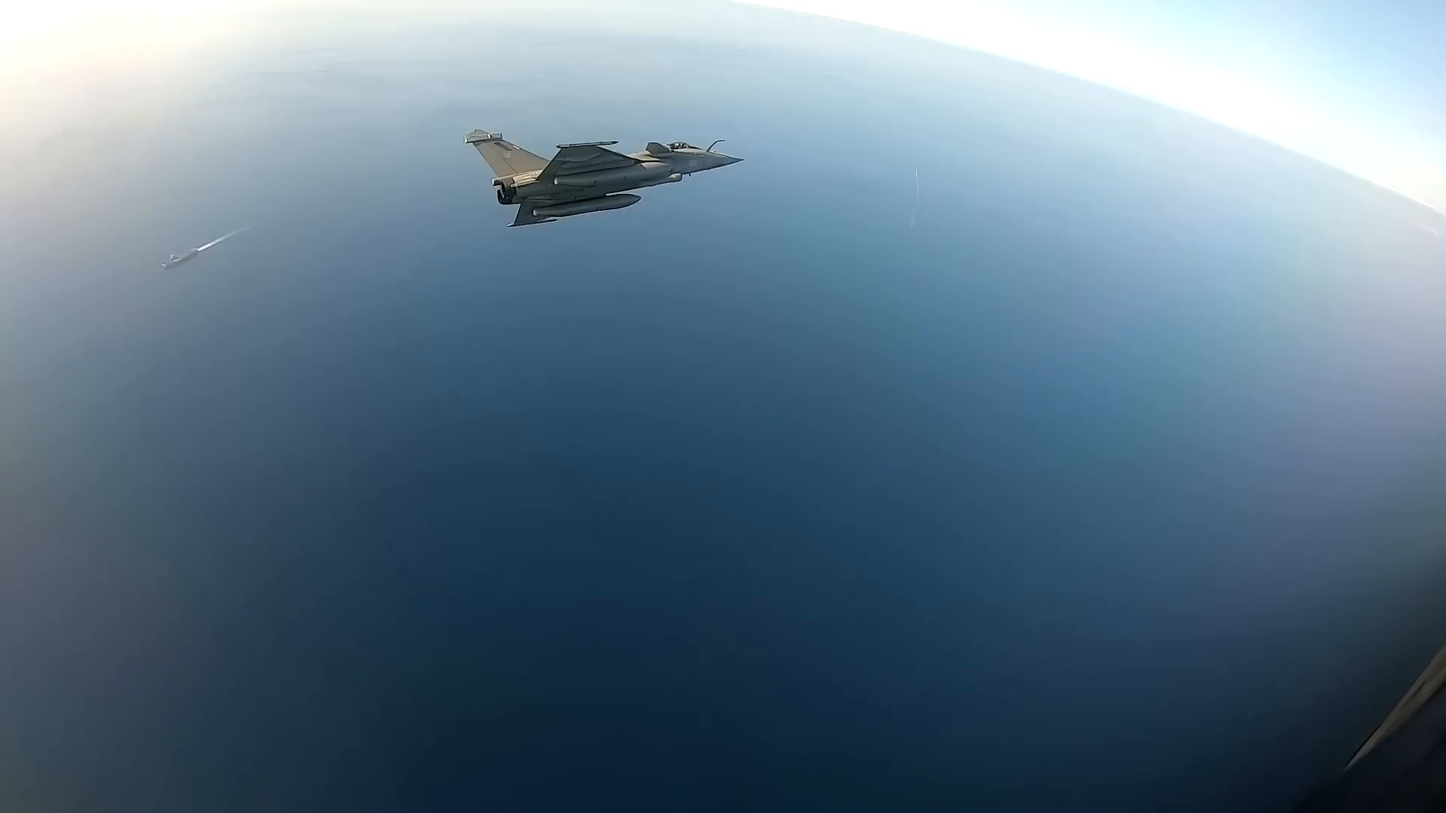Rafale: (464, 124, 749, 233)
